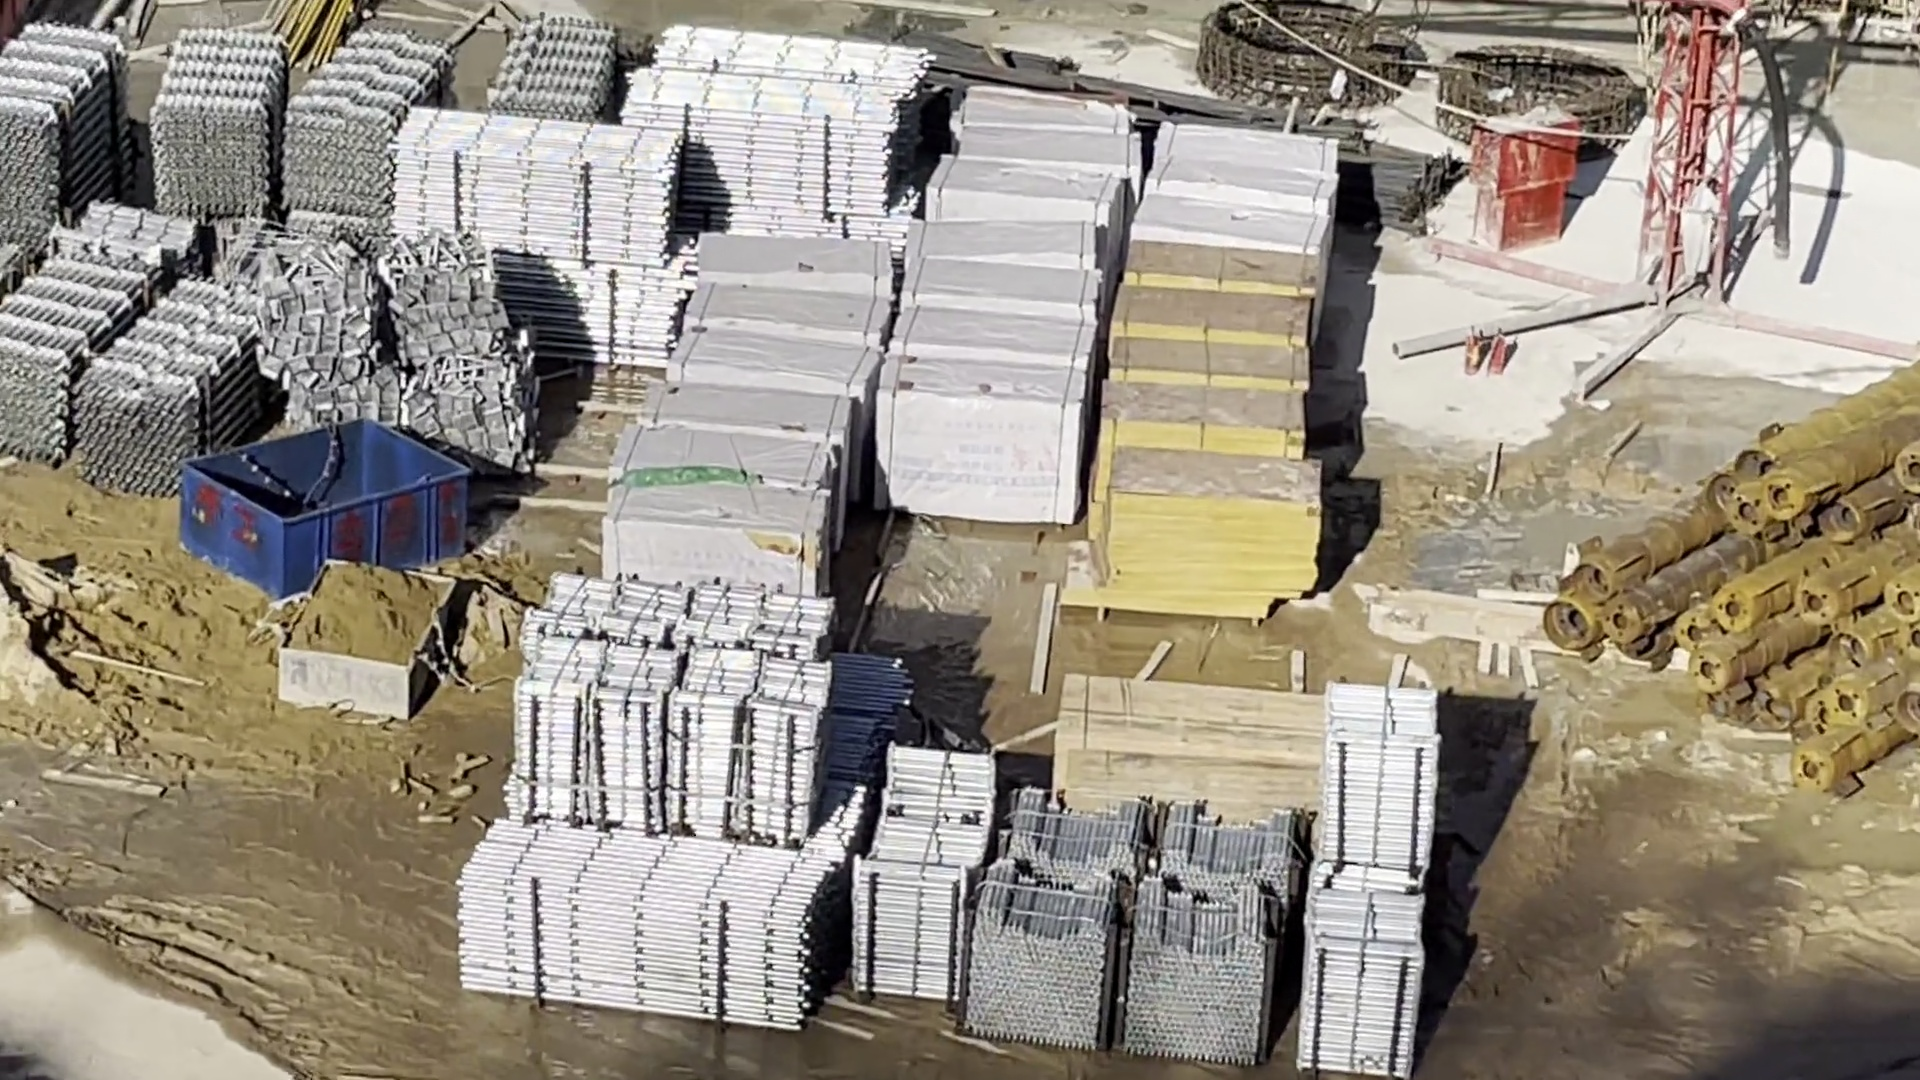board: (1083, 243, 1313, 615), (1055, 676, 1323, 816)
hopper: (181, 418, 465, 600), (277, 562, 451, 723)
rebar: (959, 69, 1451, 214)
scaffold: (967, 806, 1294, 1058), (517, 583, 823, 839), (398, 111, 683, 378), (459, 833, 848, 1023), (4, 256, 261, 492), (152, 30, 442, 233), (625, 34, 920, 215), (1300, 691, 1427, 1072), (855, 752, 978, 1001), (1, 21, 129, 253), (477, 15, 621, 127)
